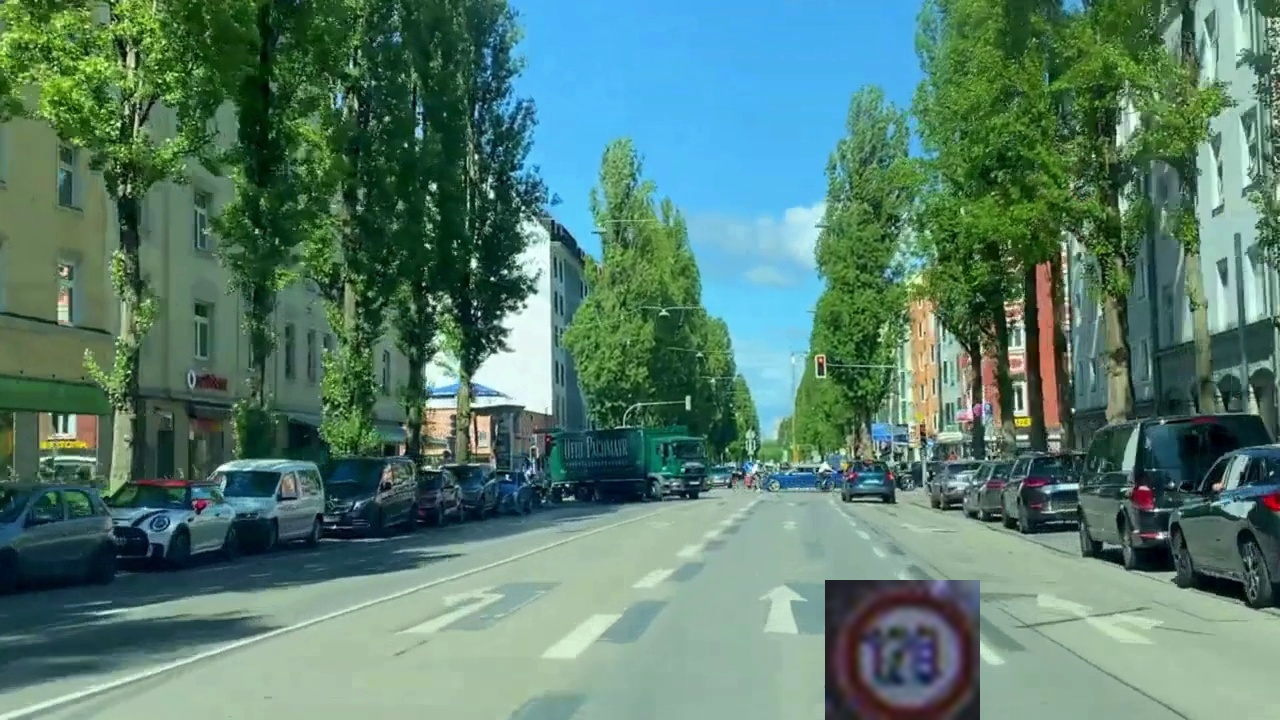Speed 120: (825, 580, 980, 720)
